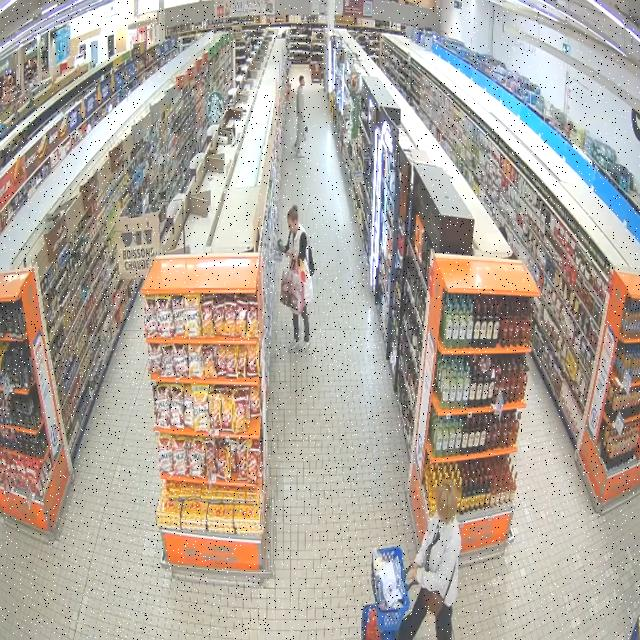article: (274, 239, 282, 263)
bags: (421, 562, 457, 616), (281, 269, 305, 314), (301, 264, 313, 305), (308, 244, 314, 276)
hands: (406, 563, 417, 583), (287, 250, 297, 259)
person: (399, 480, 460, 639), (289, 305, 310, 352), (294, 76, 305, 157)
